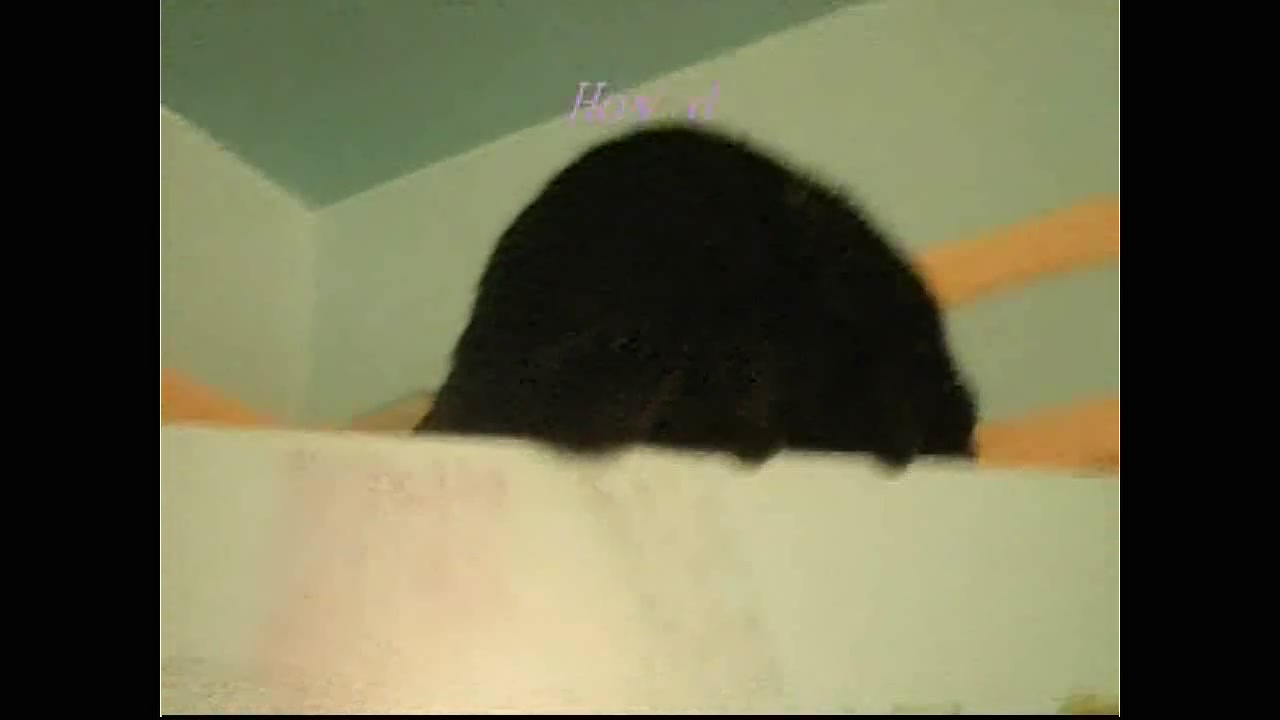cat: (412, 120, 980, 470)
